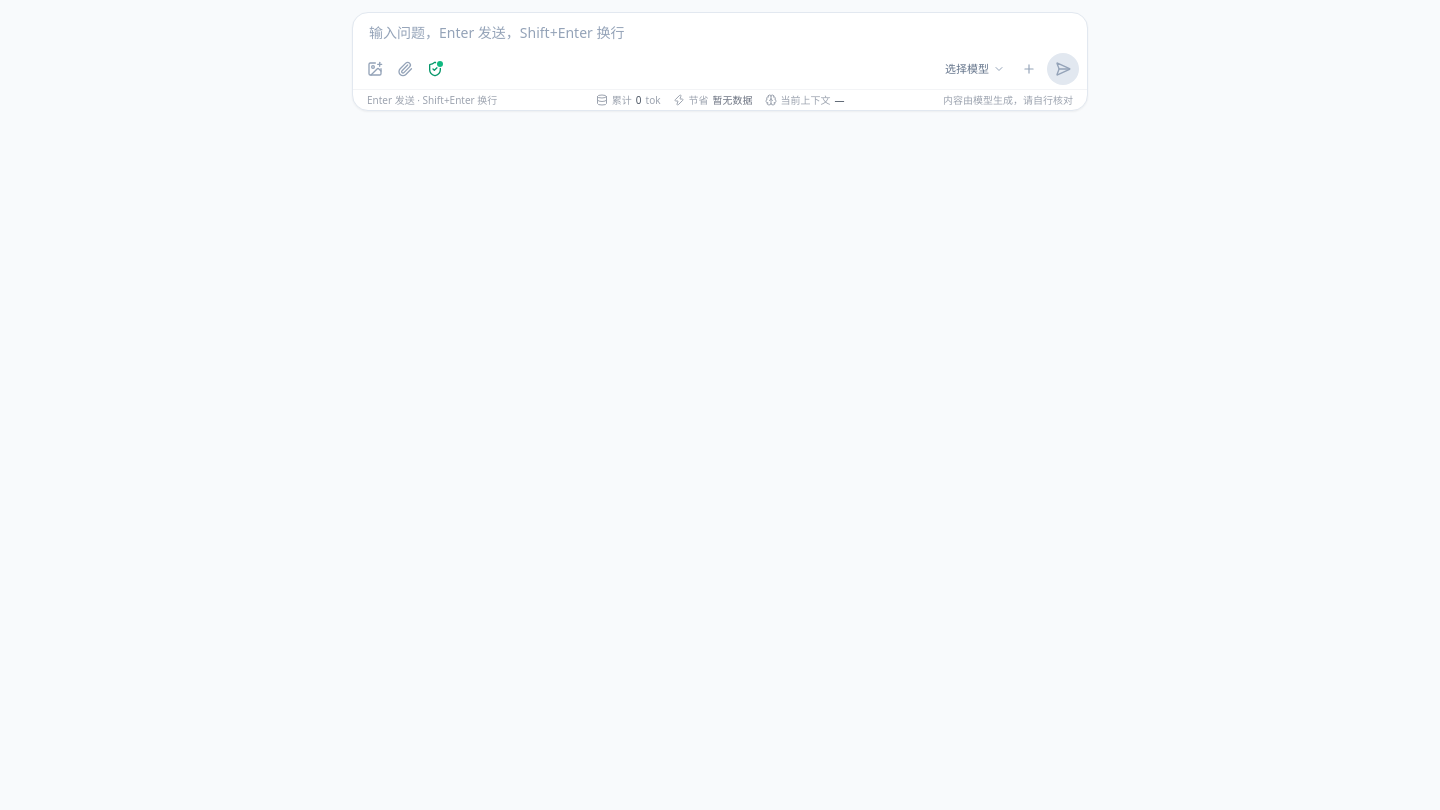
多根工作区（附加目录）前端 › 非法挂载名在前端就被拦下（不发给后端）
This screenshot has width=1440, height=810.
Click the button with test id "sandbox-badge".
click(435, 69)  # box [421,55,449,83]
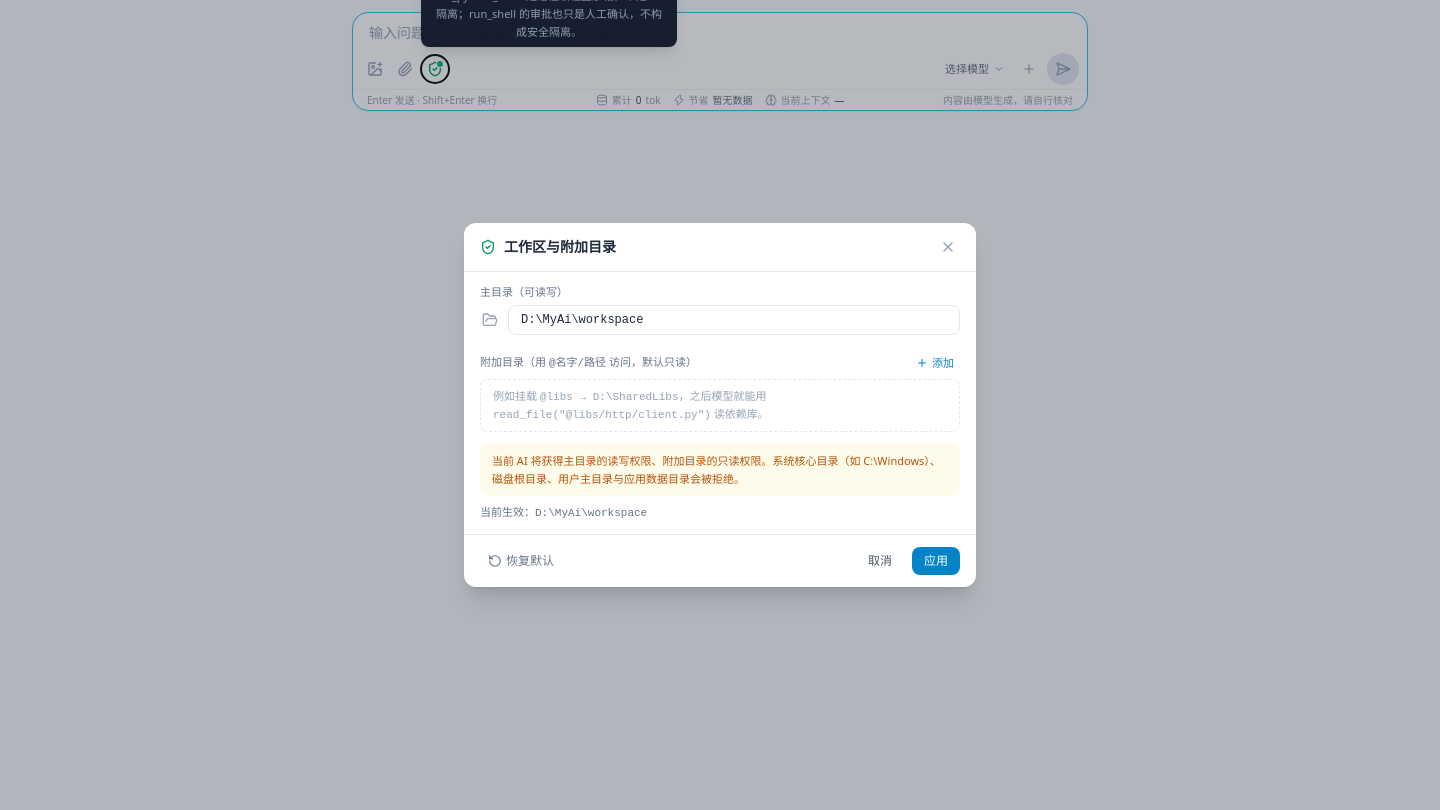
Click the button "添加".
click(935, 363)  # box [910,351,960,375]
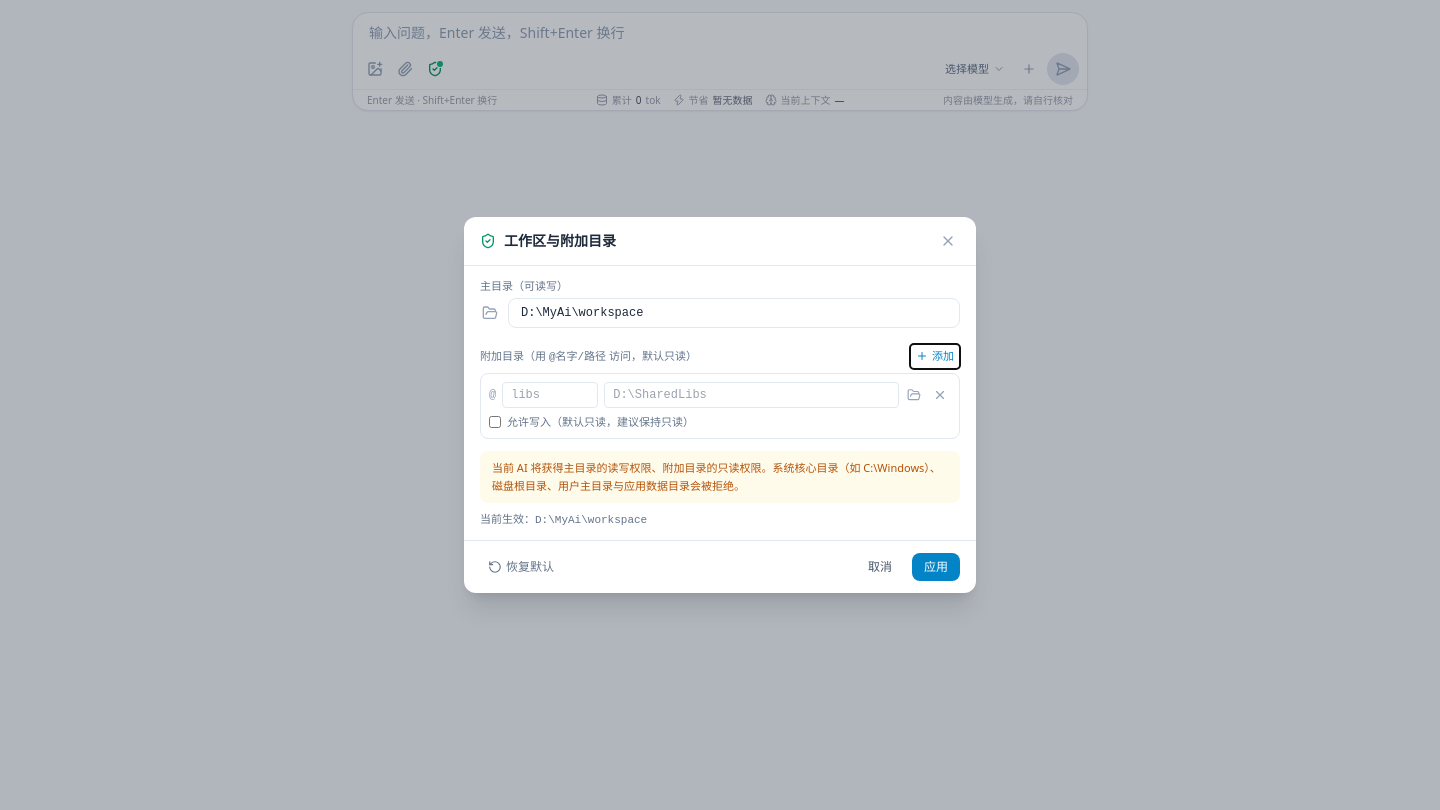
Type "Bad Name" into the field named "附加目录 1 挂载名".
click(550, 395); type("Bad Name")  # box [502,382,598,408]
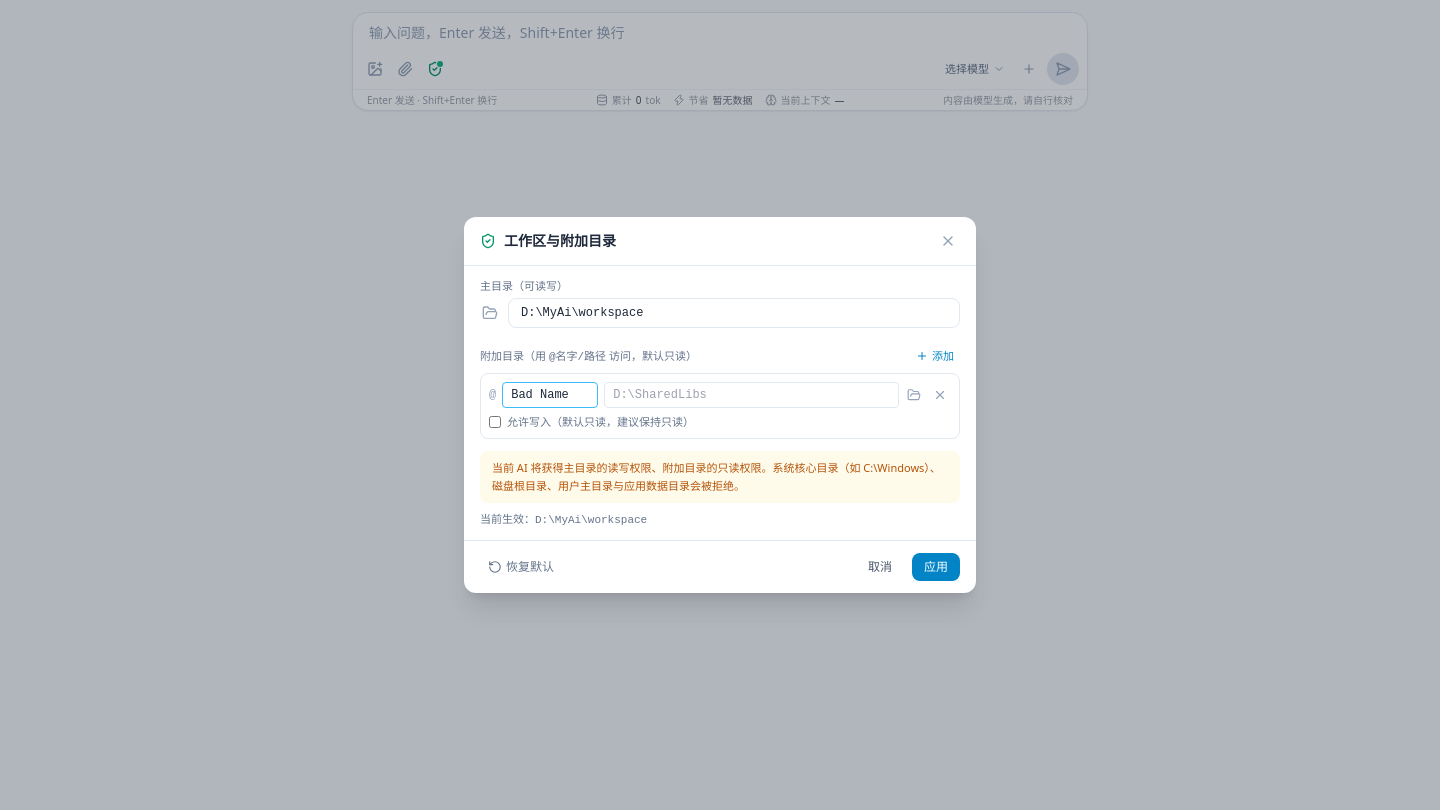
Type "D:\\X" into the field named "附加目录 1 路径".
click(752, 395); type("D:\\X")  # box [604,382,899,408]
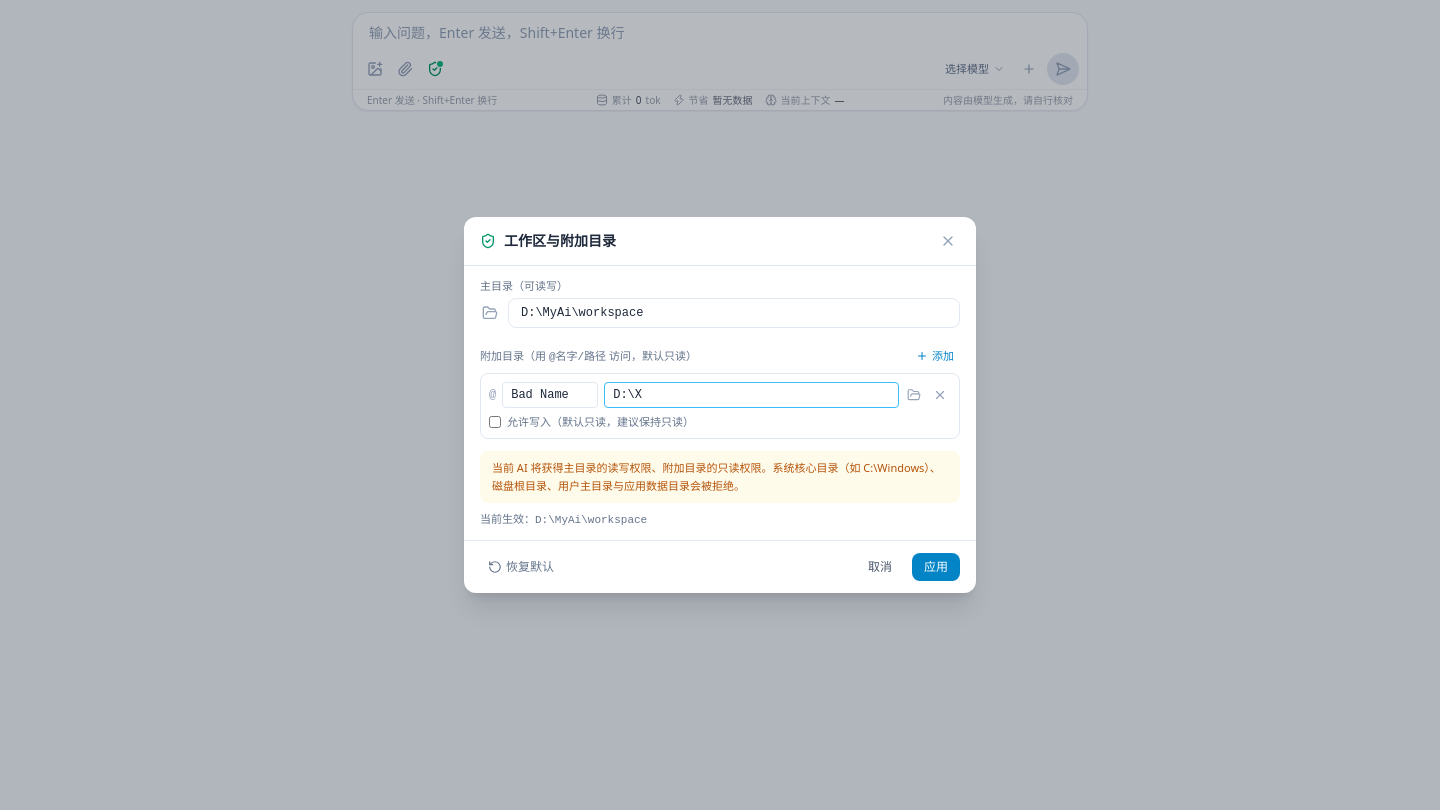
Click the button "应用".
click(936, 567)  # box [912,553,960,581]
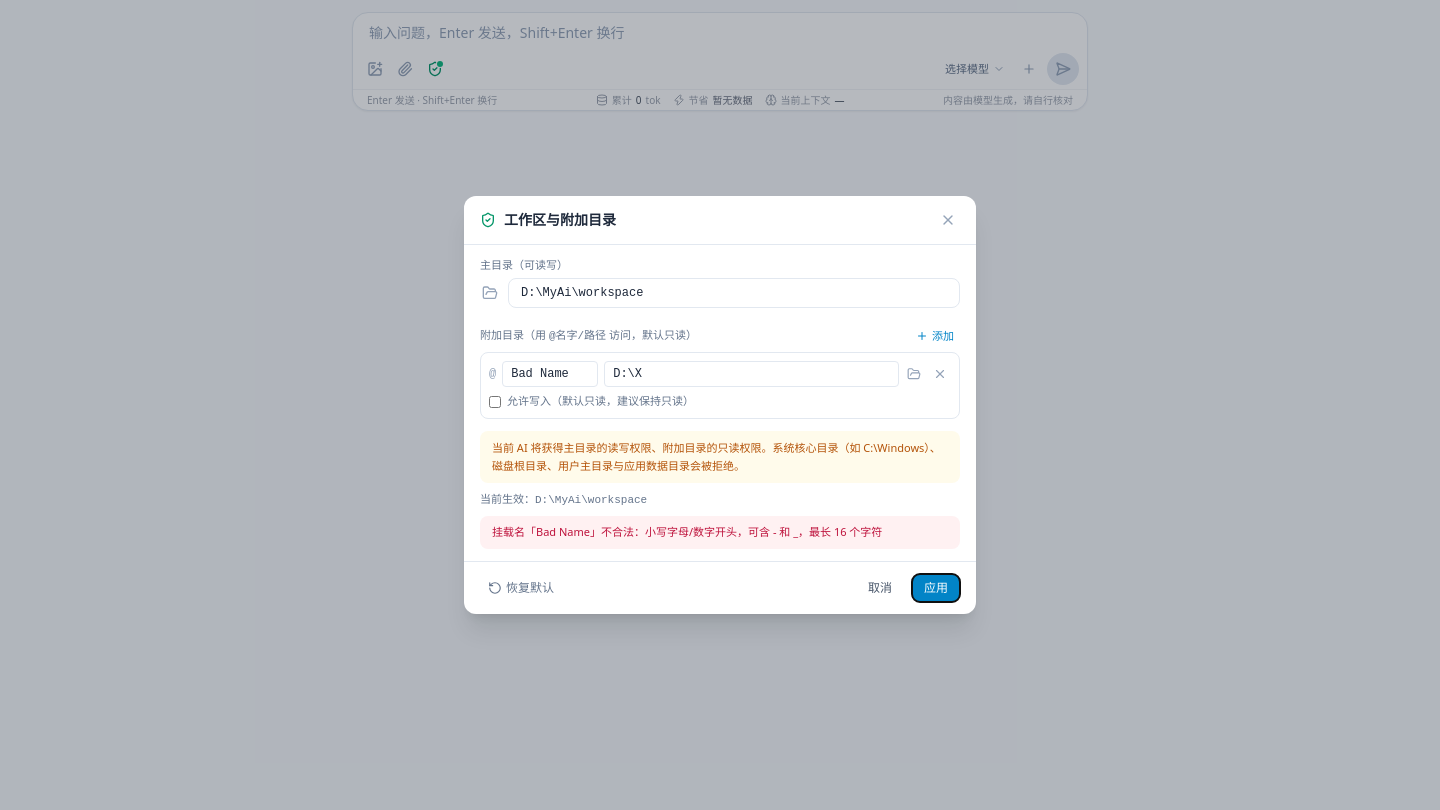
Check: the message reads "挂载名「Bad Name」不合法：小写字母/数字开头，可含 - 和 _，最长 16 个字符", box [492,524,882,539]
